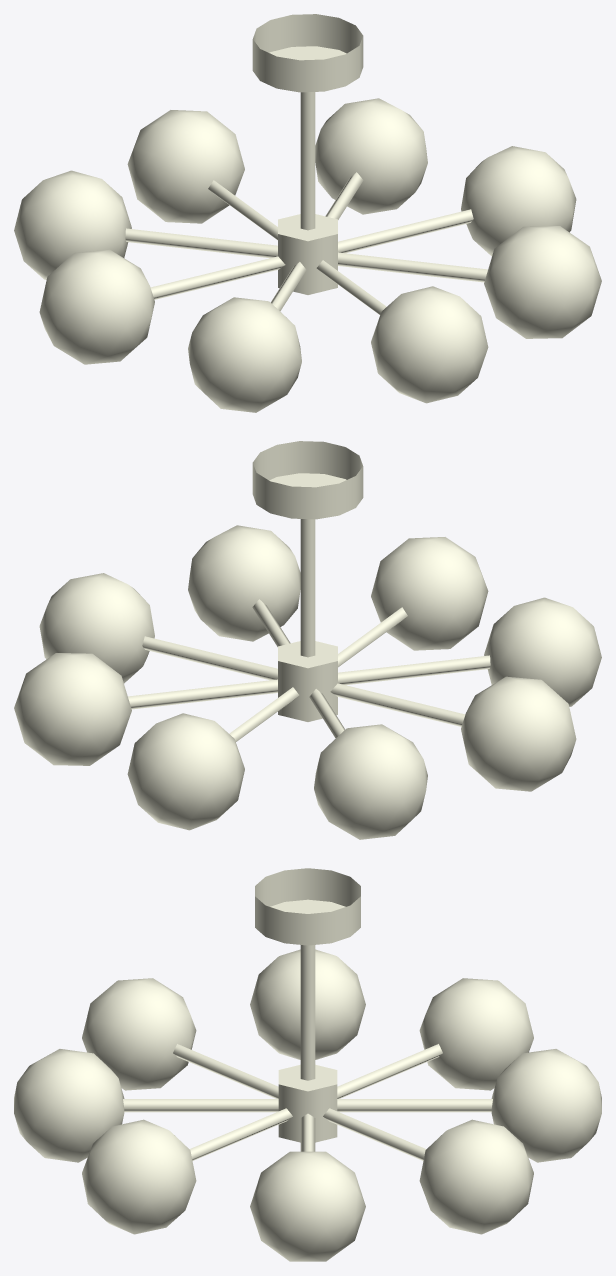
The model's file is M_BRwoshideng04.FBX.
3 renders of one model, top to bottom at view 1: azimuth 30°, elevation 25°; view 2: azimuth 150°, elevation 25°; view 3: azimuth 270°, elevation 25°, orthographic.
Visible parts, largest first — view 1: M_BRwoshideng04_02, M_BRwoshideng04_01; view 2: M_BRwoshideng04_02, M_BRwoshideng04_01; view 3: M_BRwoshideng04_02, M_BRwoshideng04_01.
Part boxes in pixels (left/top/right/bottom): M_BRwoshideng04_02: left=14, top=98, right=601, bottom=412; M_BRwoshideng04_01: left=125, top=14, right=487, bottom=314; M_BRwoshideng04_02: left=14, top=525, right=601, bottom=839; M_BRwoshideng04_01: left=128, top=441, right=490, bottom=741; M_BRwoshideng04_02: left=14, top=949, right=601, bottom=1261; M_BRwoshideng04_01: left=123, top=868, right=492, bottom=1160.
Bounding box in the file's own units: 1.48 × 0.7418 × 1.48.
